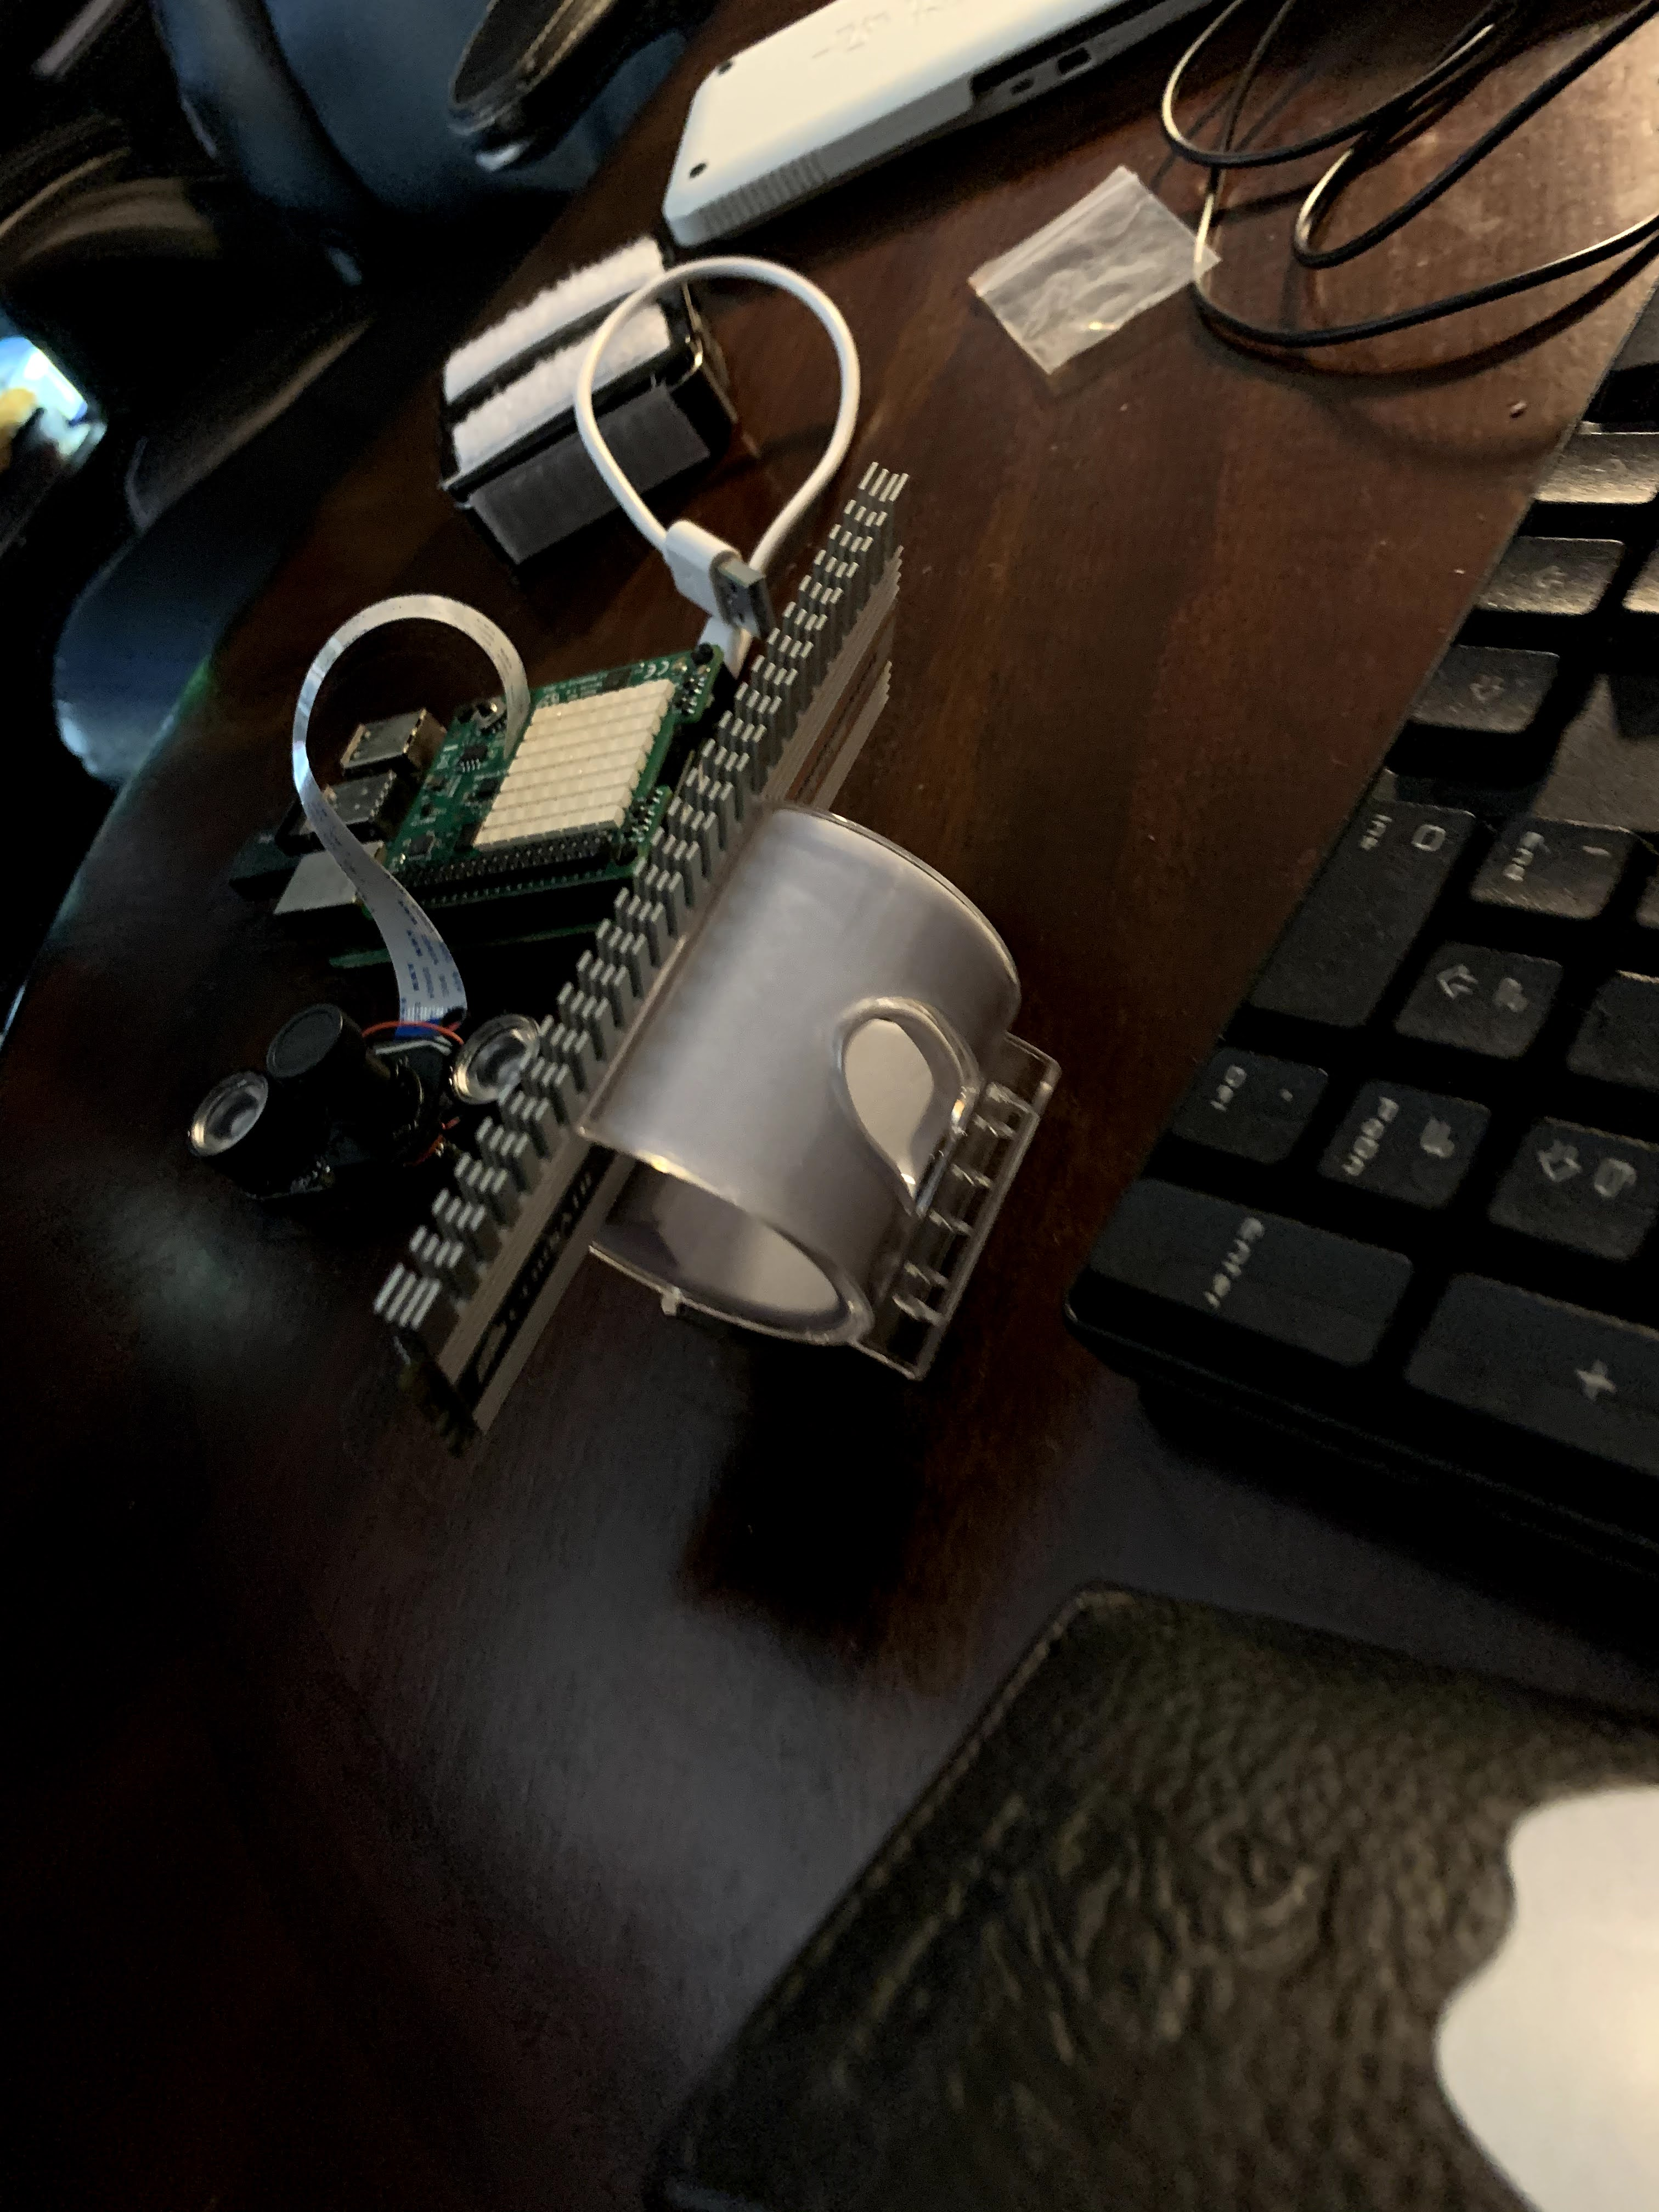Space-debris-medium: (232, 441, 1101, 1371)
